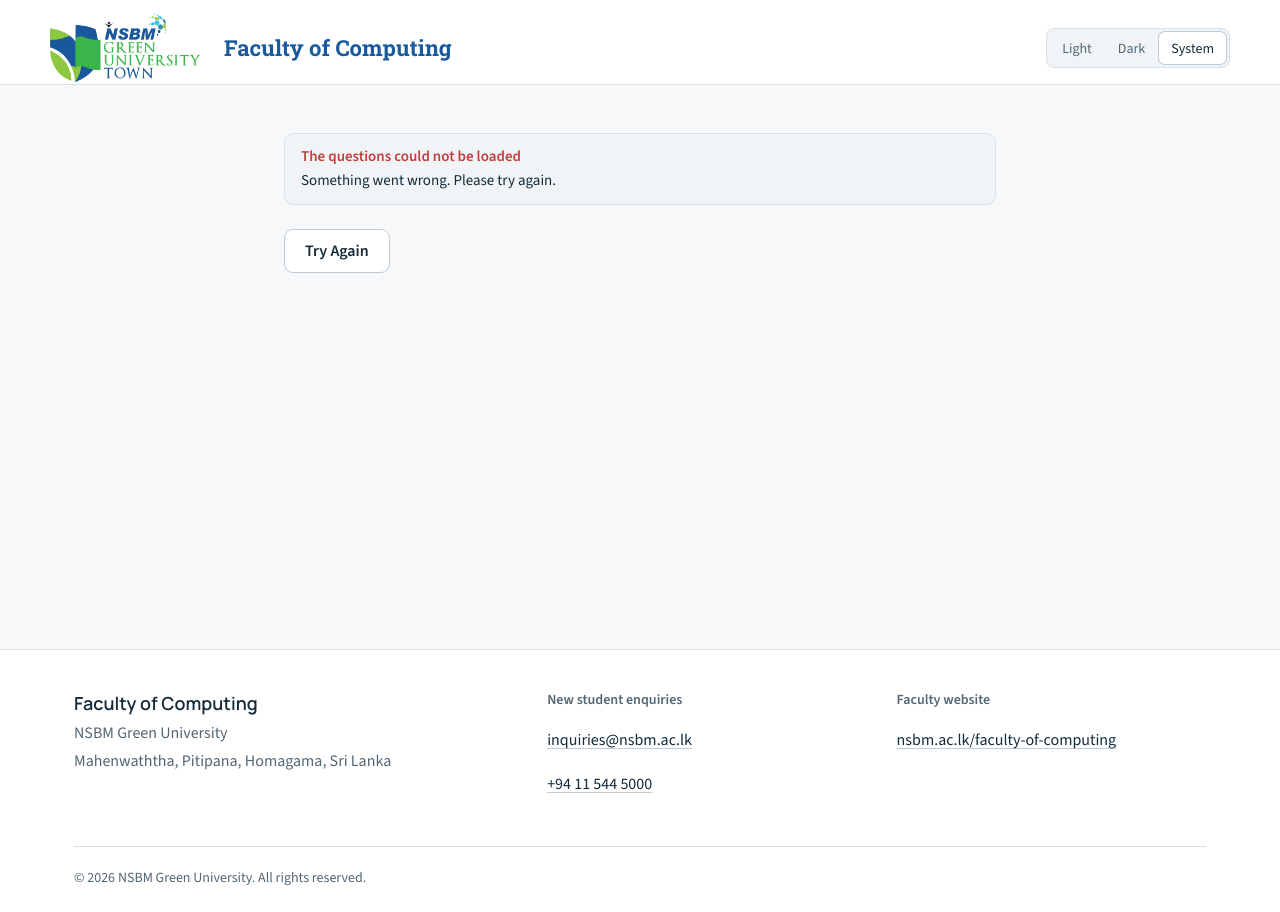
it: questionnaire › shows a clear error with a retry when the questions cannot load
This screenshot has width=1280, height=912.
Check: the message shows "The questions could not be loaded", box [301,146,521,166]
What coordinates should you click on to do the following:
click the button "Try Again"
I would click on:
 (337, 250)
Its box is [284,228,390,272].
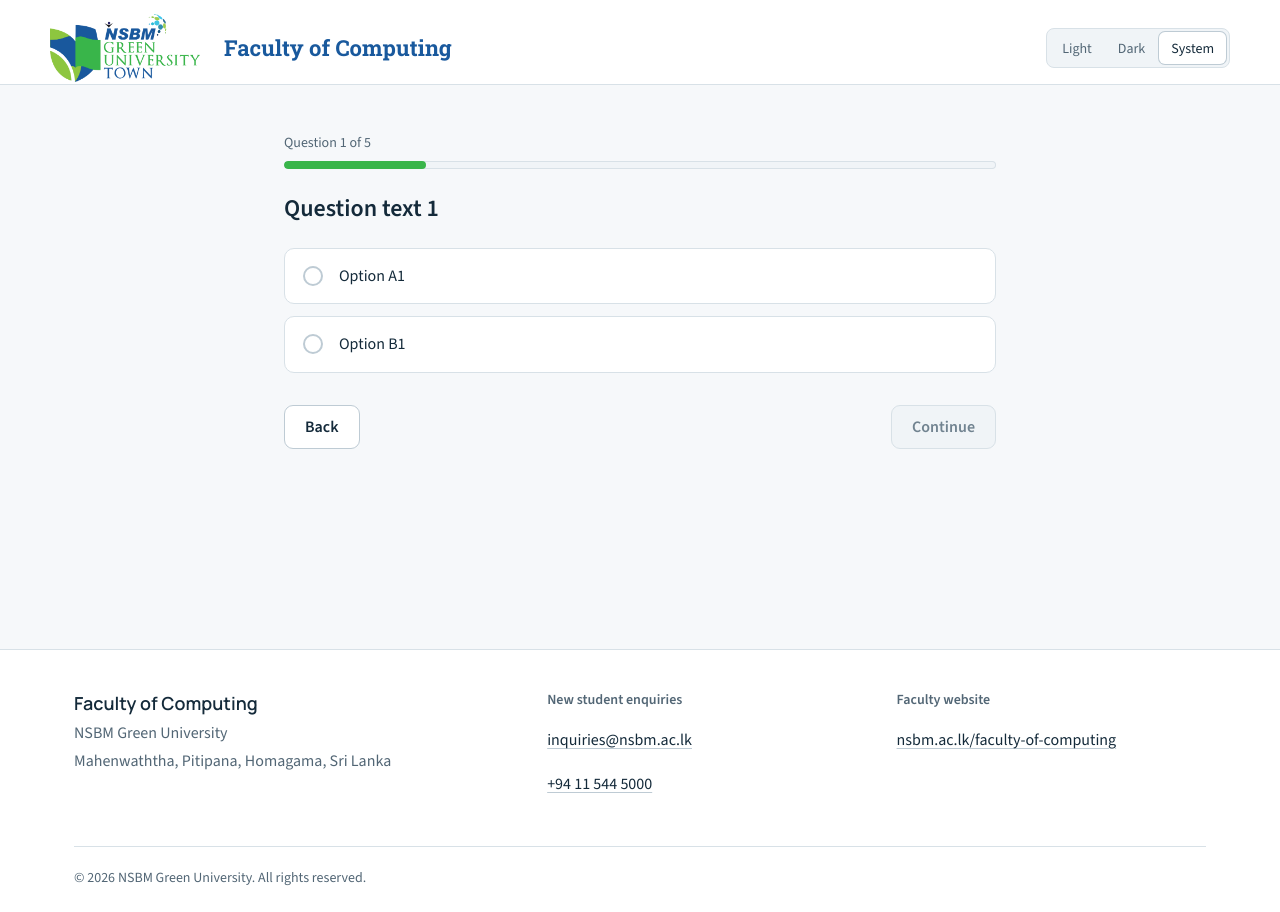
Check: the heading "Question text 1" is shown, box [284,192,439,224]
